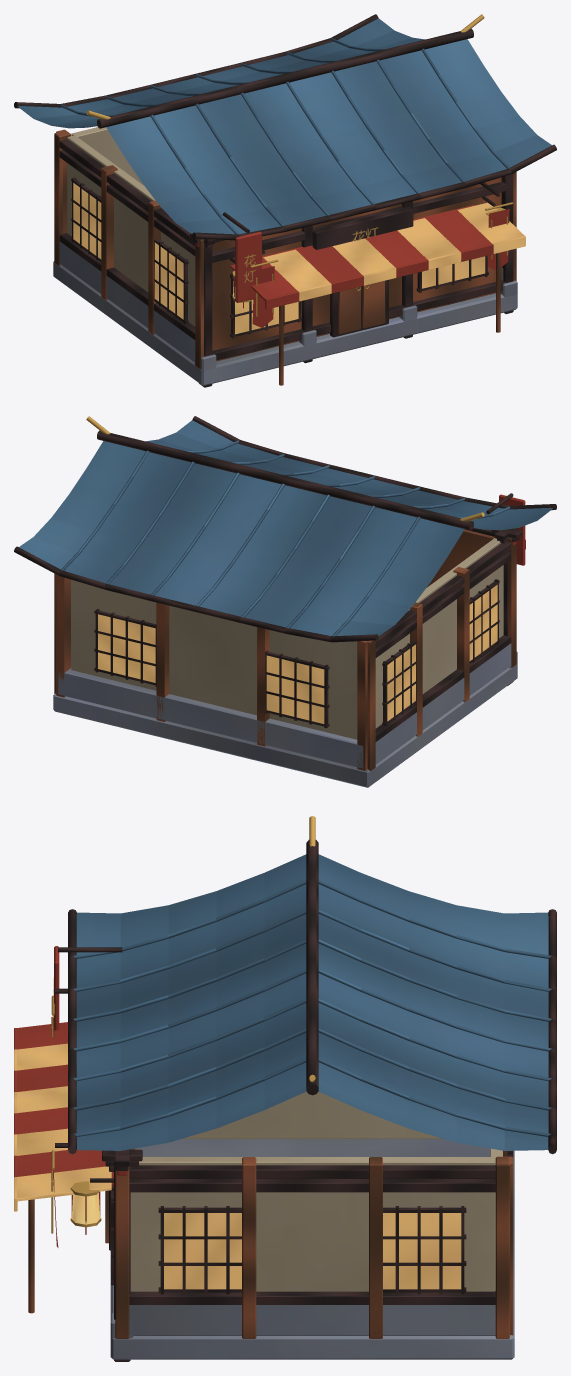
The model's file is model-shop-01.glb.
3 views of the same model, one above another, from view 1: azimuth 30°, elevation 25°; view 2: azimuth 150°, elevation 25°; view 3: azimuth 270°, elevation 25° (orthographic). The views are drawn at different scales.
Visible parts, largest first — view 1: model-shop-01; view 2: model-shop-01; view 3: model-shop-01.
Part boxes in pixels (<box>): model-shop-01: <box>14,14,556,387</box>; model-shop-01: <box>14,416,556,787</box>; model-shop-01: <box>14,816,556,1361</box>.
Size of the model in its own units: 10.55 by 5.94 by 9.28.
9 materials, 9 textured.
